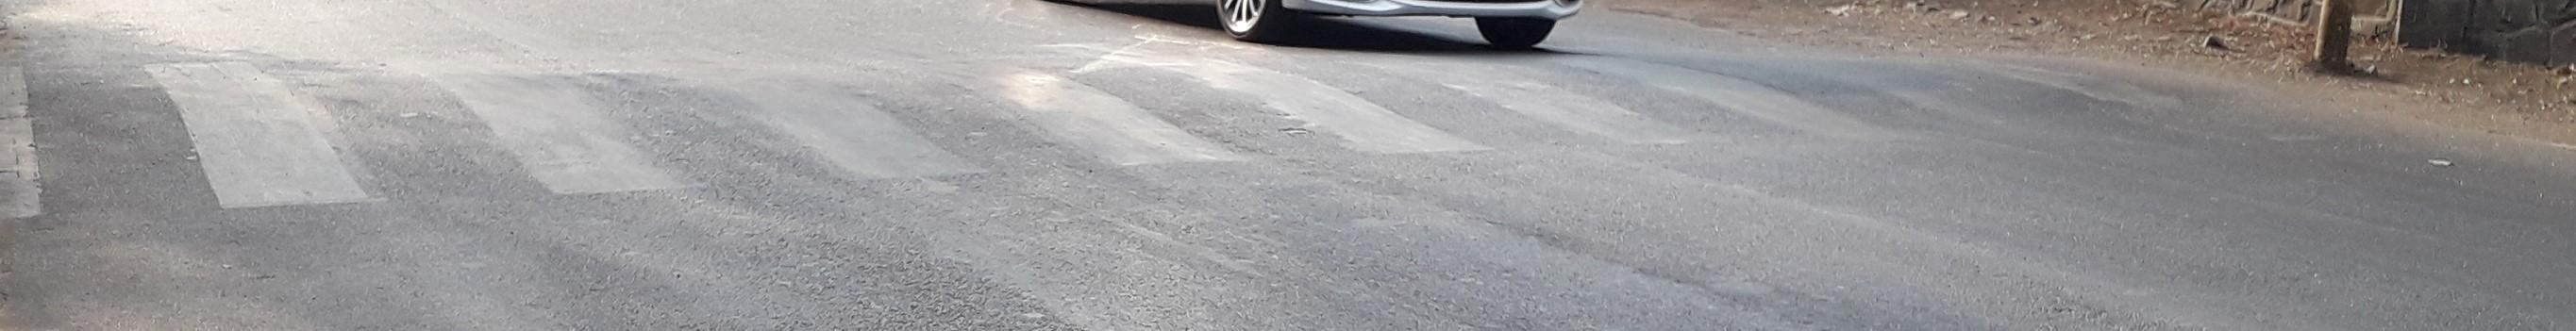speed-bump: (5, 25, 2326, 221)
